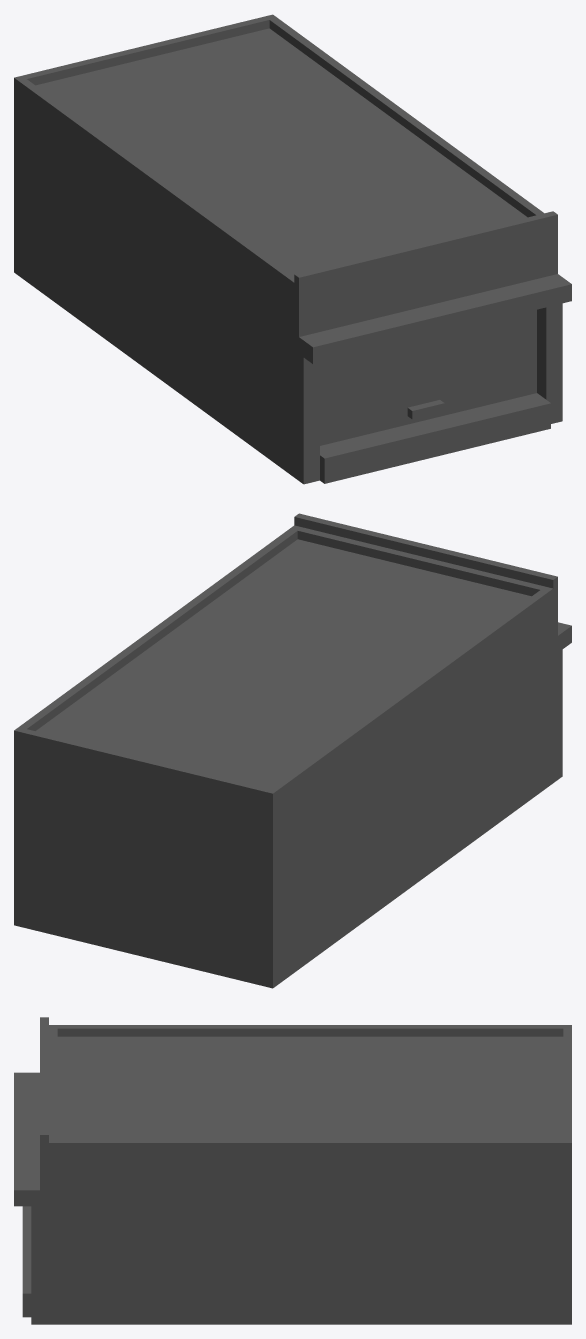
Rendered from bld_store08.obj.
3 renders of one model, top to bottom at view 1: azimuth 30°, elevation 25°; view 2: azimuth 150°, elevation 25°; view 3: azimuth 270°, elevation 25°, orthographic. The views are drawn at different scales.
Bounding box in the file's own units: 32 × 24 × 64.
